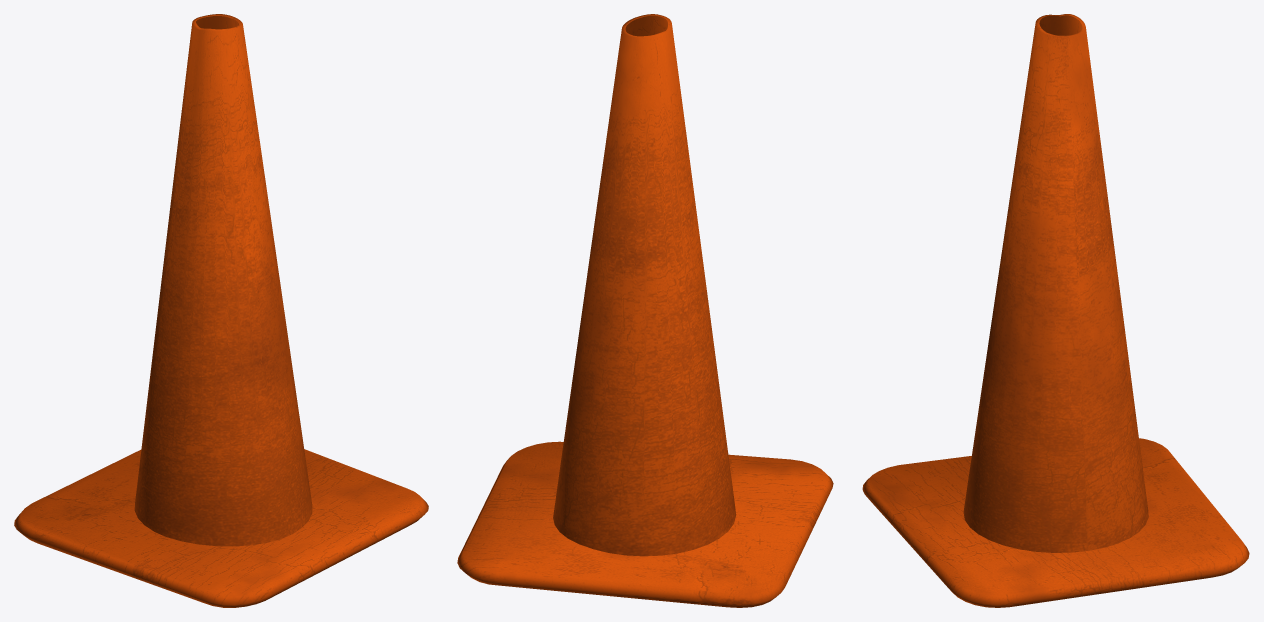
File: traffic-cone-v1.glb
3 views of the same model, side by side, from view 1: azimuth 30°, elevation 25°; view 2: azimuth 150°, elevation 25°; view 3: azimuth 270°, elevation 25° (orthographic).
Parts seen in each view (by area): view 1: Object_4; view 2: Object_4; view 3: Object_4.
Part boxes in pixels (<box>): Object_4: <box>14,14,428,607</box>; Object_4: <box>457,14,833,607</box>; Object_4: <box>862,14,1249,607</box>.
Bounding box in the file's own units: 0.3947 × 0.5687 × 0.3936.
1 material, 1 textured.
